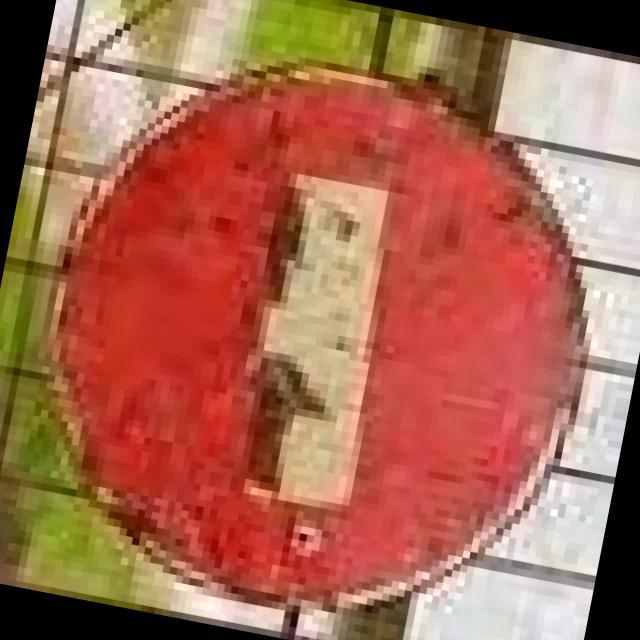obstructed_road_sign: (59, 69, 578, 614)
